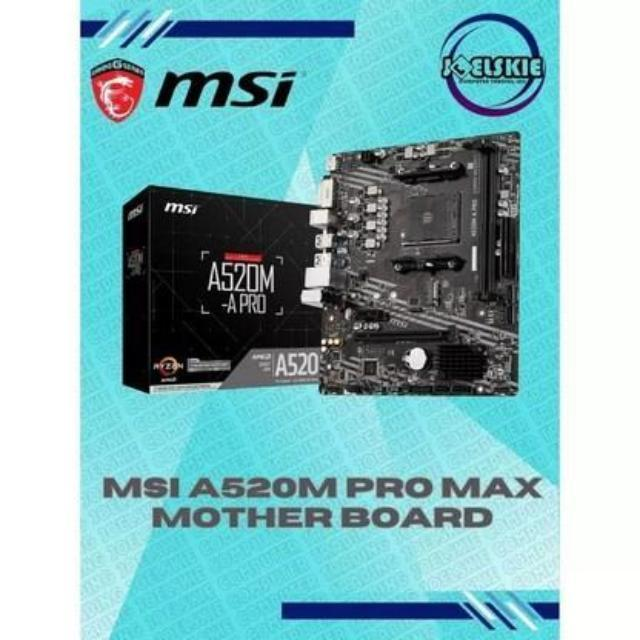Mainboard: (310, 126, 524, 403)
